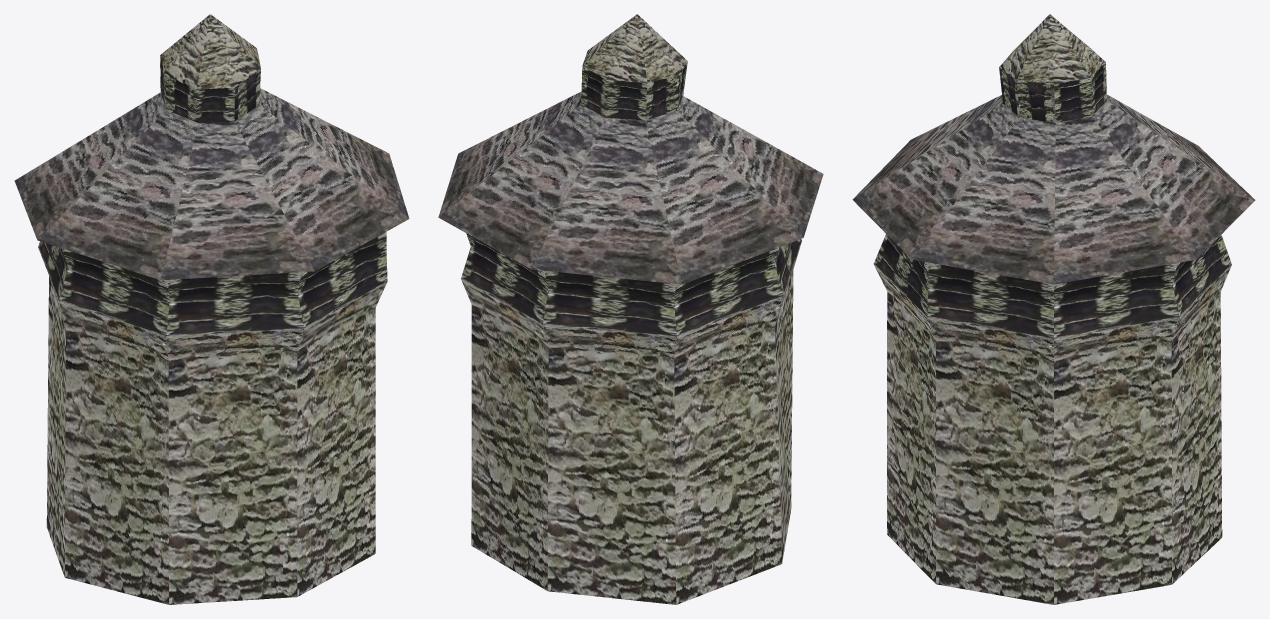
File: dovecote.glb
3 renders of one model, left to right at view 1: azimuth 30°, elevation 25°; view 2: azimuth 150°, elevation 25°; view 3: azimuth 270°, elevation 25°, orthographic. The views are drawn at different scales.
Parts seen in each view (by area): view 1: Cylinder; view 2: Cylinder; view 3: Cylinder.
Boxes of the visible parts, x1=… form: Cylinder: x1=14, y1=14, x2=409, y2=604; Cylinder: x1=438, y1=14, x2=823, y2=604; Cylinder: x1=852, y1=14, x2=1255, y2=604.
Bounding box in the file's own units: 9.66 × 13.98 × 9.68.
Materials: 1 (1 with a texture image).
